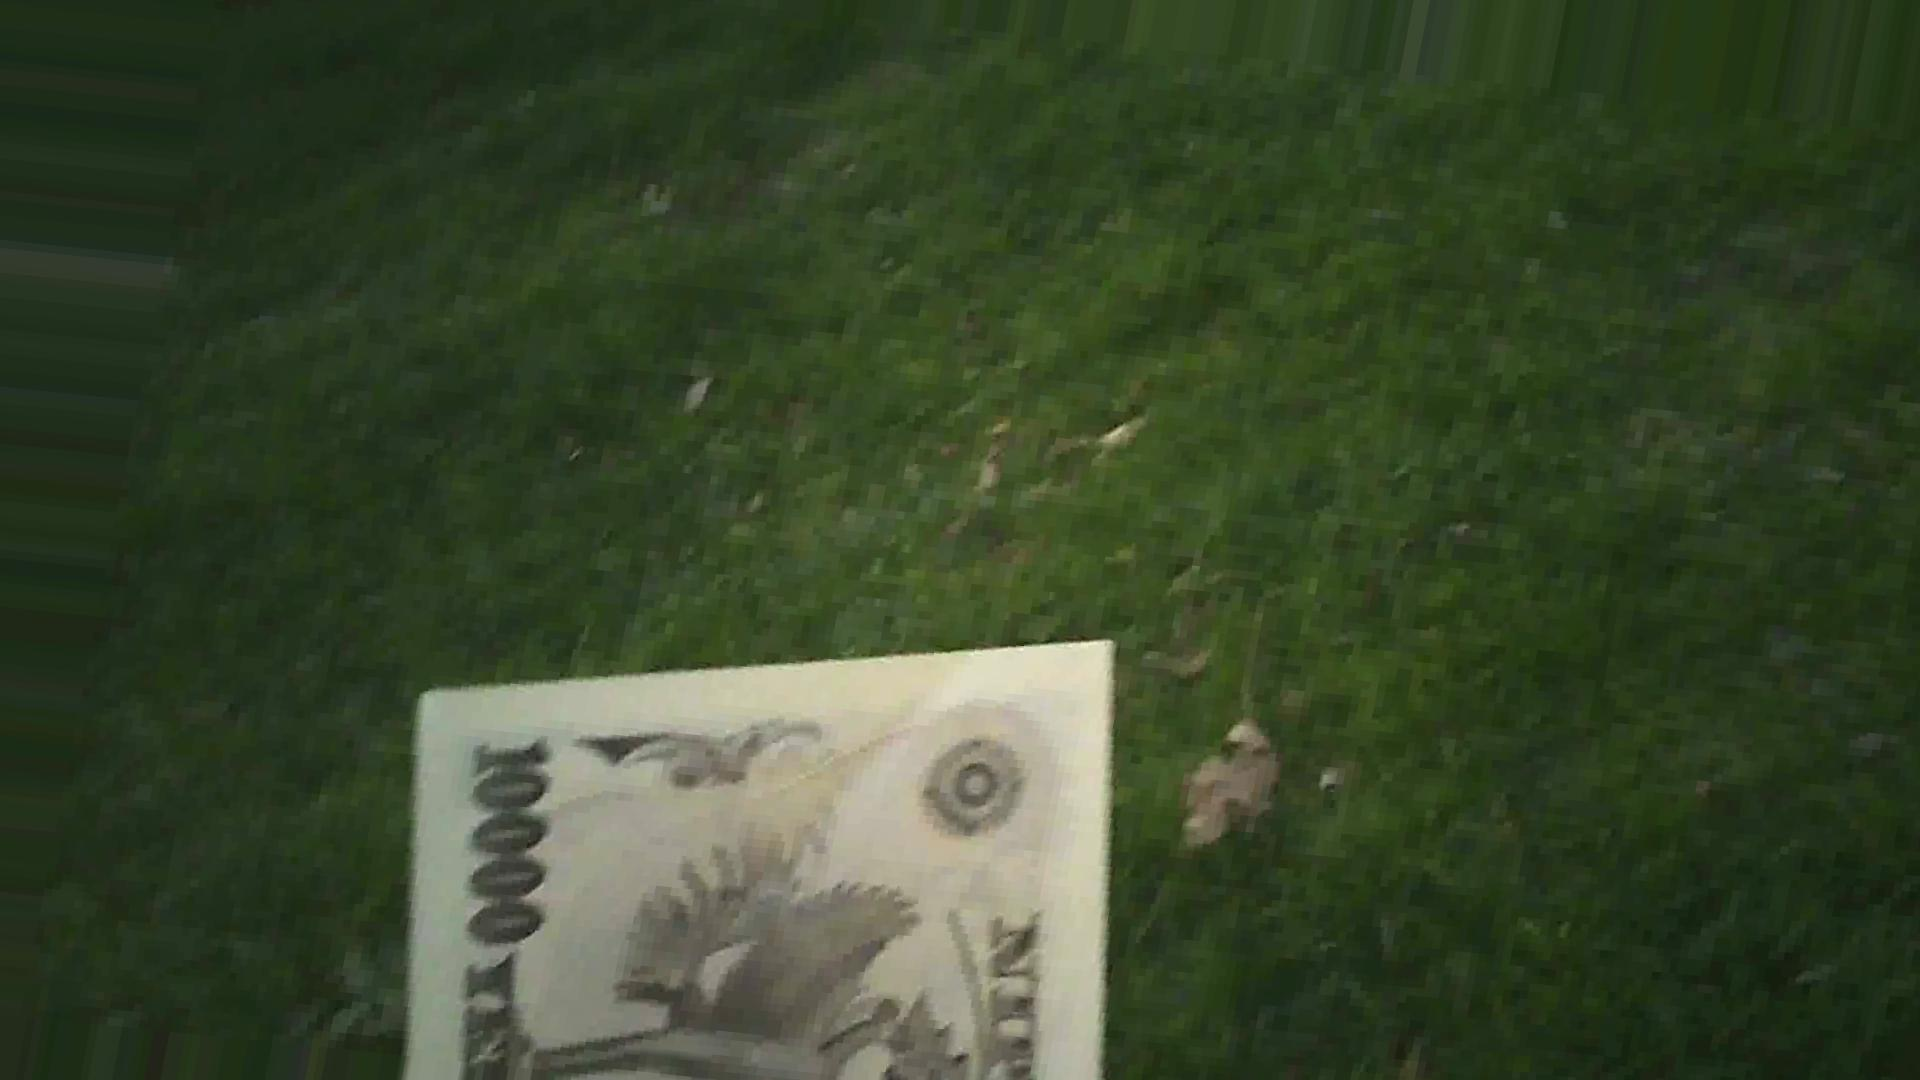10,000 Yen: (371, 611, 1178, 1079)
